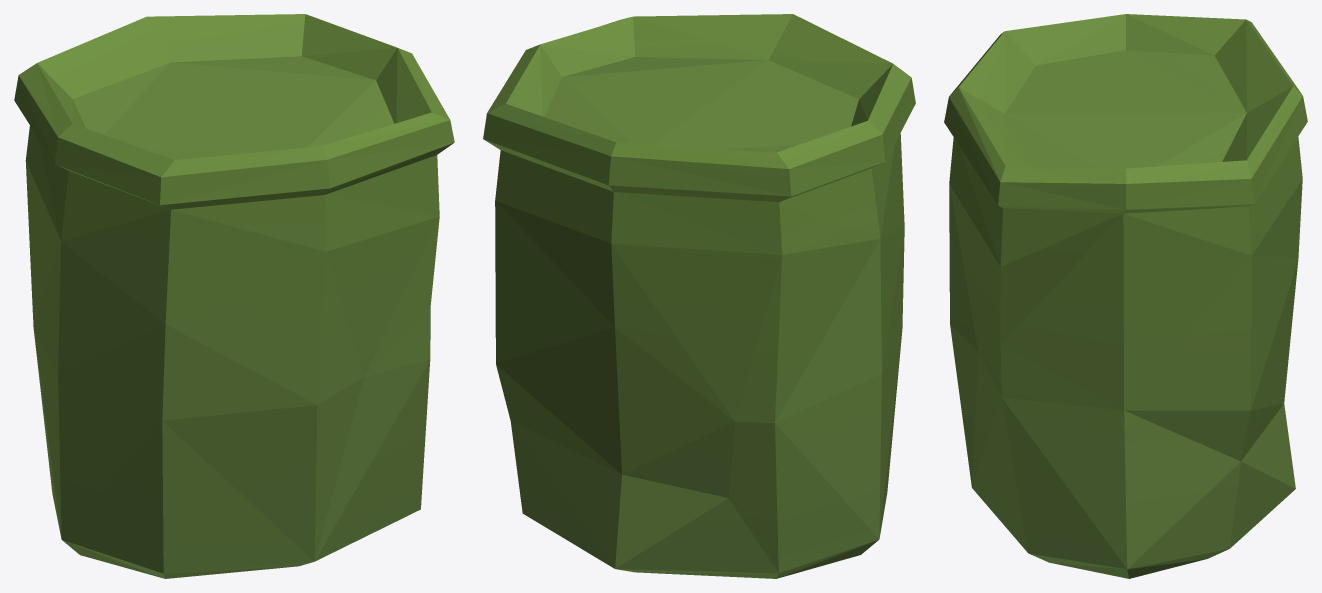
File: Bag_02.fbx
3 views of the same model, side by side, from view 1: azimuth 30°, elevation 25°; view 2: azimuth 150°, elevation 25°; view 3: azimuth 270°, elevation 25° (orthographic). The views are drawn at different scales.
Visible parts, largest first — view 1: Bag_02; view 2: Bag_02; view 3: Bag_02.
Boxes of the visible parts, bbox=[...] form: Bag_02: bbox=[14, 14, 454, 578]; Bag_02: bbox=[483, 14, 915, 578]; Bag_02: bbox=[944, 14, 1307, 578].
Bounding box in the file's own units: 0.5604 × 0.6625 × 0.5149.
